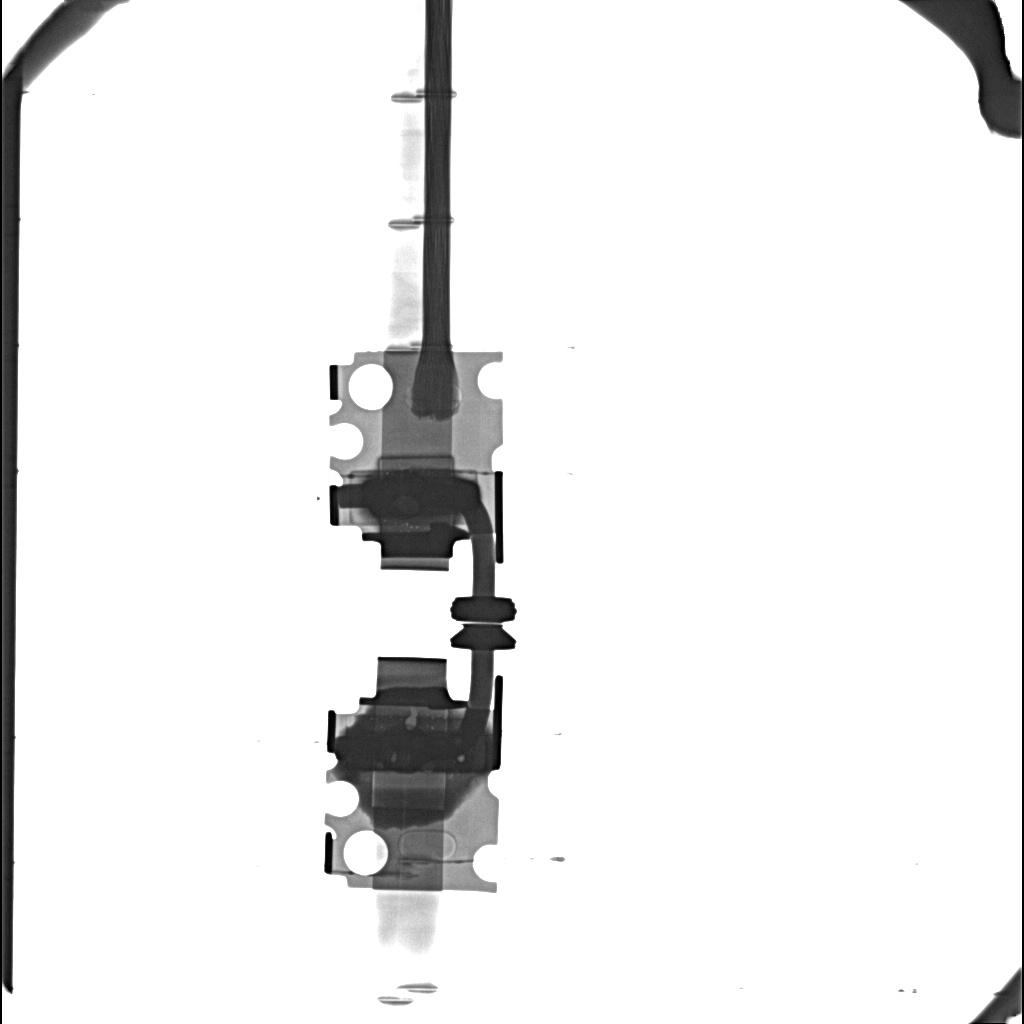PX: (368, 773, 450, 814), (377, 455, 455, 472)
QP: (405, 712, 418, 726)
SX: (341, 728, 489, 772), (362, 470, 480, 520)
